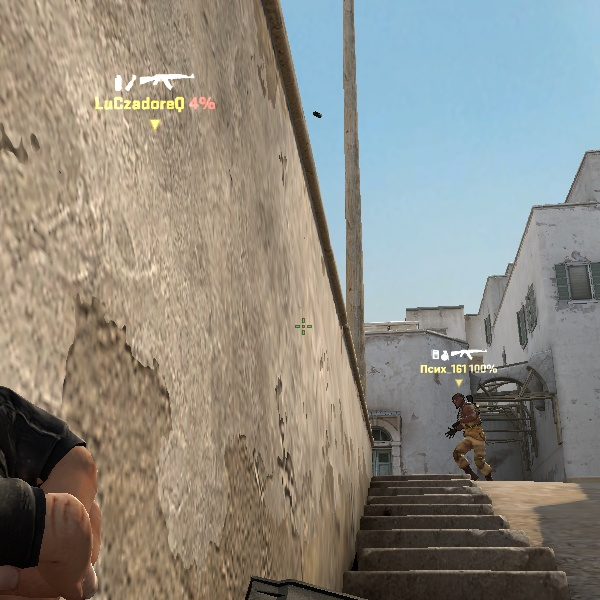t_body: (441, 392, 492, 481)
t_head: (451, 391, 467, 409)
